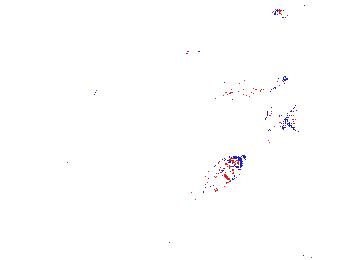X-ray fish: (193, 154, 247, 198), (69, 72, 103, 102)
glassfish: (219, 104, 323, 169)
red belly glassfish: (167, 11, 211, 29), (270, 2, 306, 21), (166, 43, 203, 58)
redtail glassfish: (220, 74, 290, 116), (261, 104, 299, 145)
